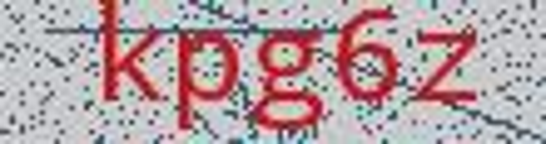6: (332, 3, 405, 122)
g: (244, 18, 330, 141)
k: (80, 1, 170, 119)
p: (169, 19, 244, 137)
z: (407, 12, 497, 120)
